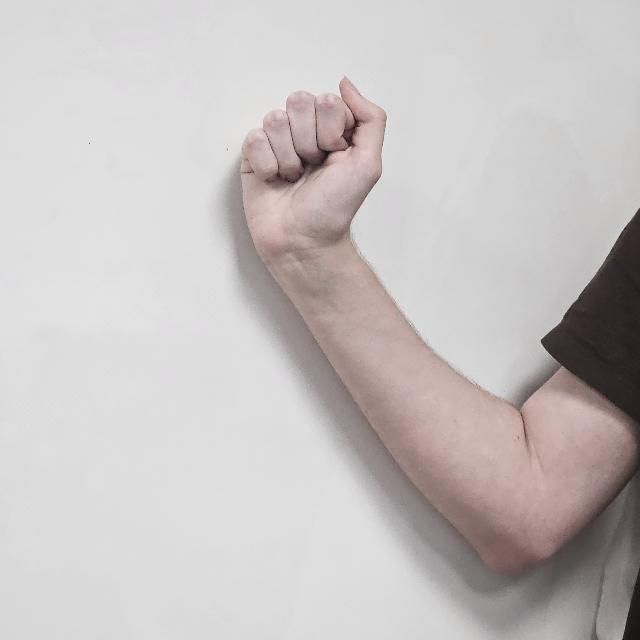Quadro: (234, 78, 394, 268)
